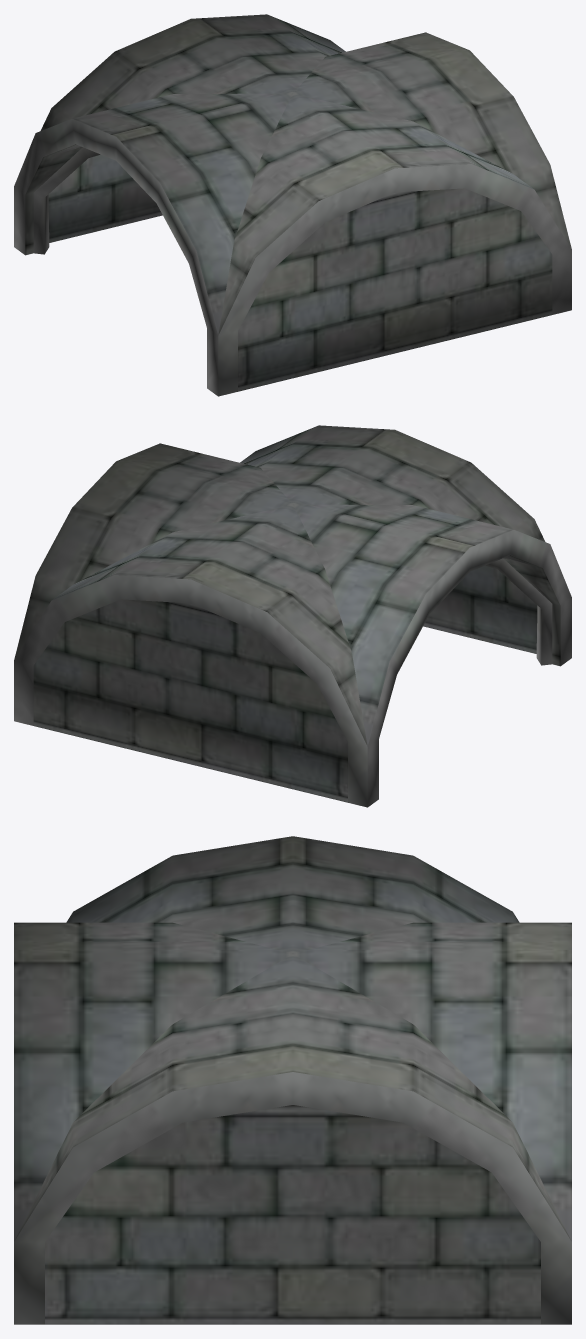
File: sd_vault_ceiling_large_05.glb
3 renders of one model, top to bottom at view 1: azimuth 30°, elevation 25°; view 2: azimuth 150°, elevation 25°; view 3: azimuth 270°, elevation 25°, orthographic. The views are drawn at different scales.
Parts seen in each view (by area): view 1: vault_ceiling_large_05; view 2: vault_ceiling_large_05; view 3: vault_ceiling_large_05.
Part boxes in pixels (left/top/right/bottom): vault_ceiling_large_05: left=14, top=14, right=571, bottom=396; vault_ceiling_large_05: left=14, top=425, right=571, bottom=807; vault_ceiling_large_05: left=14, top=836, right=571, bottom=1324.
Size of the model in its own units: 4 by 2 by 4.
Materials: 1 (1 with a texture image).
